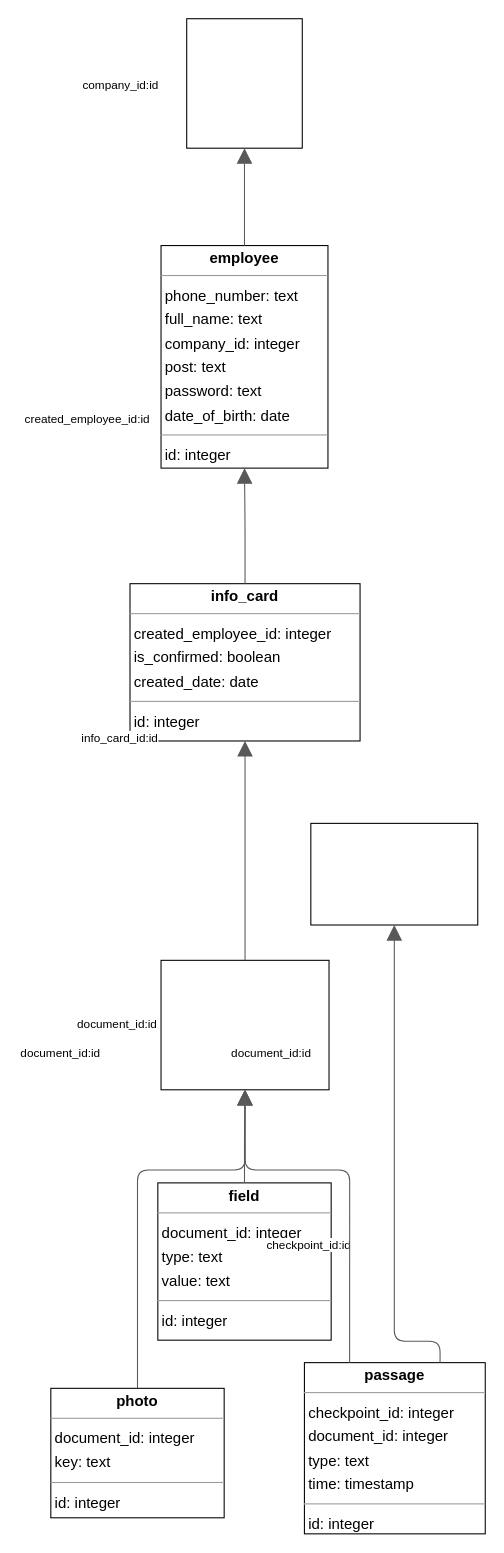
Image size: 504x1553. Some labels were removed from this diagram. Each missing label, with the box of its shape:
checkpoint phone_number: text id: integer: (310, 822, 478, 925)
company name: text city: text id: integer: (186, 18, 302, 148)
document info_card_id: integer type: text id: integer: (160, 959, 329, 1090)
